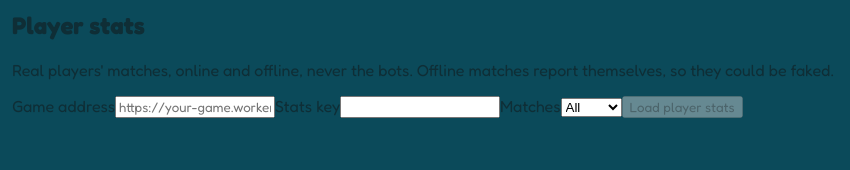
Test: the card editor's player stats (2026-10-17) › says what went wrong instead of a table
Type "https://game.example" into the field labelled "Game address" at coordinates (195, 107), box [115,96,275,118]
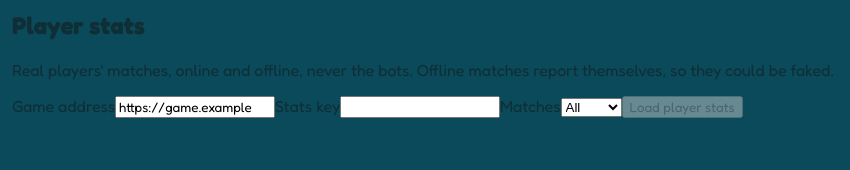
Type "sekret" into the password field labelled "Stats key" at coordinates (420, 107), box [340,96,500,118]
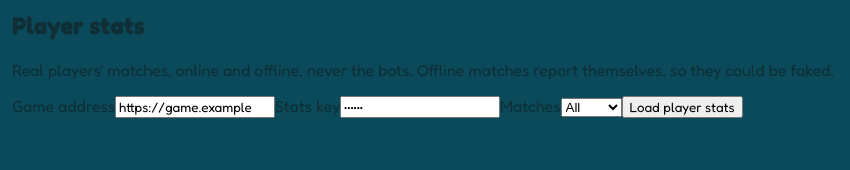
Click the button "Load player stats" at coordinates (682, 107), box [622,96,743,118]
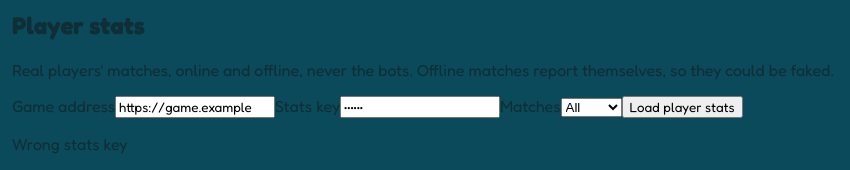
Expected: the message reads "Wrong stats key", [12,134,128,154]
